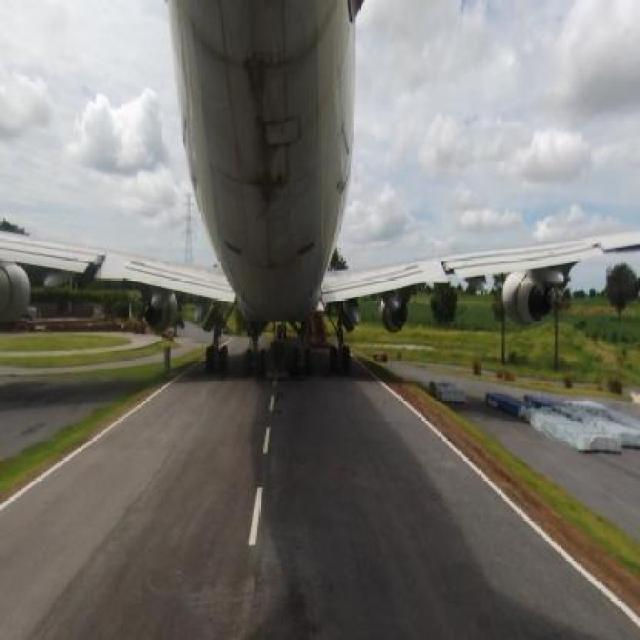Scartch: (191, 18, 349, 76), (237, 65, 286, 226)
